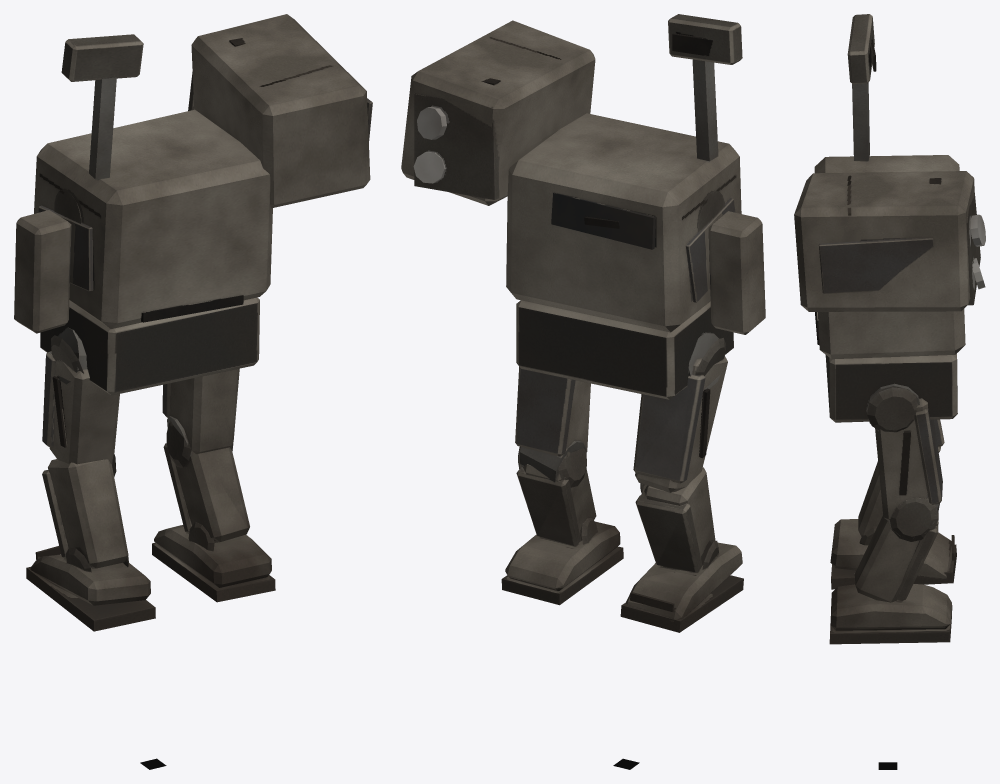
The model's file is ord_kestrel_wreck.fbx.
3 renders of one model, left to right at view 1: azimuth 30°, elevation 25°; view 2: azimuth 150°, elevation 25°; view 3: azimuth 270°, elevation 25°, orthographic. The views are drawn at different scales.
Parts seen in each view (by area): view 1: torso_bar, launcher_bar, base_bar, thighL_bar, shinL_bar, footL_bar, shinR_bar, footR_bar, thighR_bar; view 2: torso_bar, launcher_bar, base_bar, thighL_bar, thighR_bar, footL_bar, footR_bar, shinL_bar, shinR_bar; view 3: launcher_bar, torso_bar, thighR_bar, base_bar, footR_bar, shinR_bar, footL_bar, shinL_bar.
Boxes of the visible parts, x1=… form: torso_bar: x1=14, y1=34, x2=272, y2=333; launcher_bar: x1=188, y1=14, x2=372, y2=208; base_bar: x1=40, y1=297, x2=259, y2=395; thighL_bar: x1=42, y1=327, x2=119, y2=476; shinL_bar: x1=42, y1=459, x2=128, y2=572; footL_bar: x1=26, y1=546, x2=155, y2=631; shinR_bar: x1=163, y1=443, x2=249, y2=551; footR_bar: x1=152, y1=525, x2=275, y2=602; thighR_bar: x1=162, y1=368, x2=239, y2=467; torso_bar: x1=506, y1=14, x2=765, y2=334; launcher_bar: x1=401, y1=20, x2=595, y2=205; base_bar: x1=516, y1=300, x2=733, y2=399; thighL_bar: x1=633, y1=333, x2=727, y2=497; thighR_bar: x1=515, y1=366, x2=590, y2=487; footL_bar: x1=620, y1=542, x2=743, y2=632; footR_bar: x1=501, y1=521, x2=623, y2=605; shinL_bar: x1=635, y1=467, x2=718, y2=572; shinR_bar: x1=516, y1=464, x2=597, y2=546; launcher_bar: x1=794, y1=171, x2=985, y2=311; torso_bar: x1=814, y1=14, x2=965, y2=359; thighR_bar: x1=866, y1=383, x2=942, y2=541; base_bar: x1=825, y1=353, x2=957, y2=422; footR_bar: x1=829, y1=584, x2=952, y2=644; shinR_bar: x1=854, y1=512, x2=938, y2=602; footL_bar: x1=830, y1=519, x2=956, y2=589; shinL_bar: x1=858, y1=461, x2=882, y2=545.
Bounding box in the file's own units: 373 × 845 × 207.
Materials: 2 (2 with a texture image).
